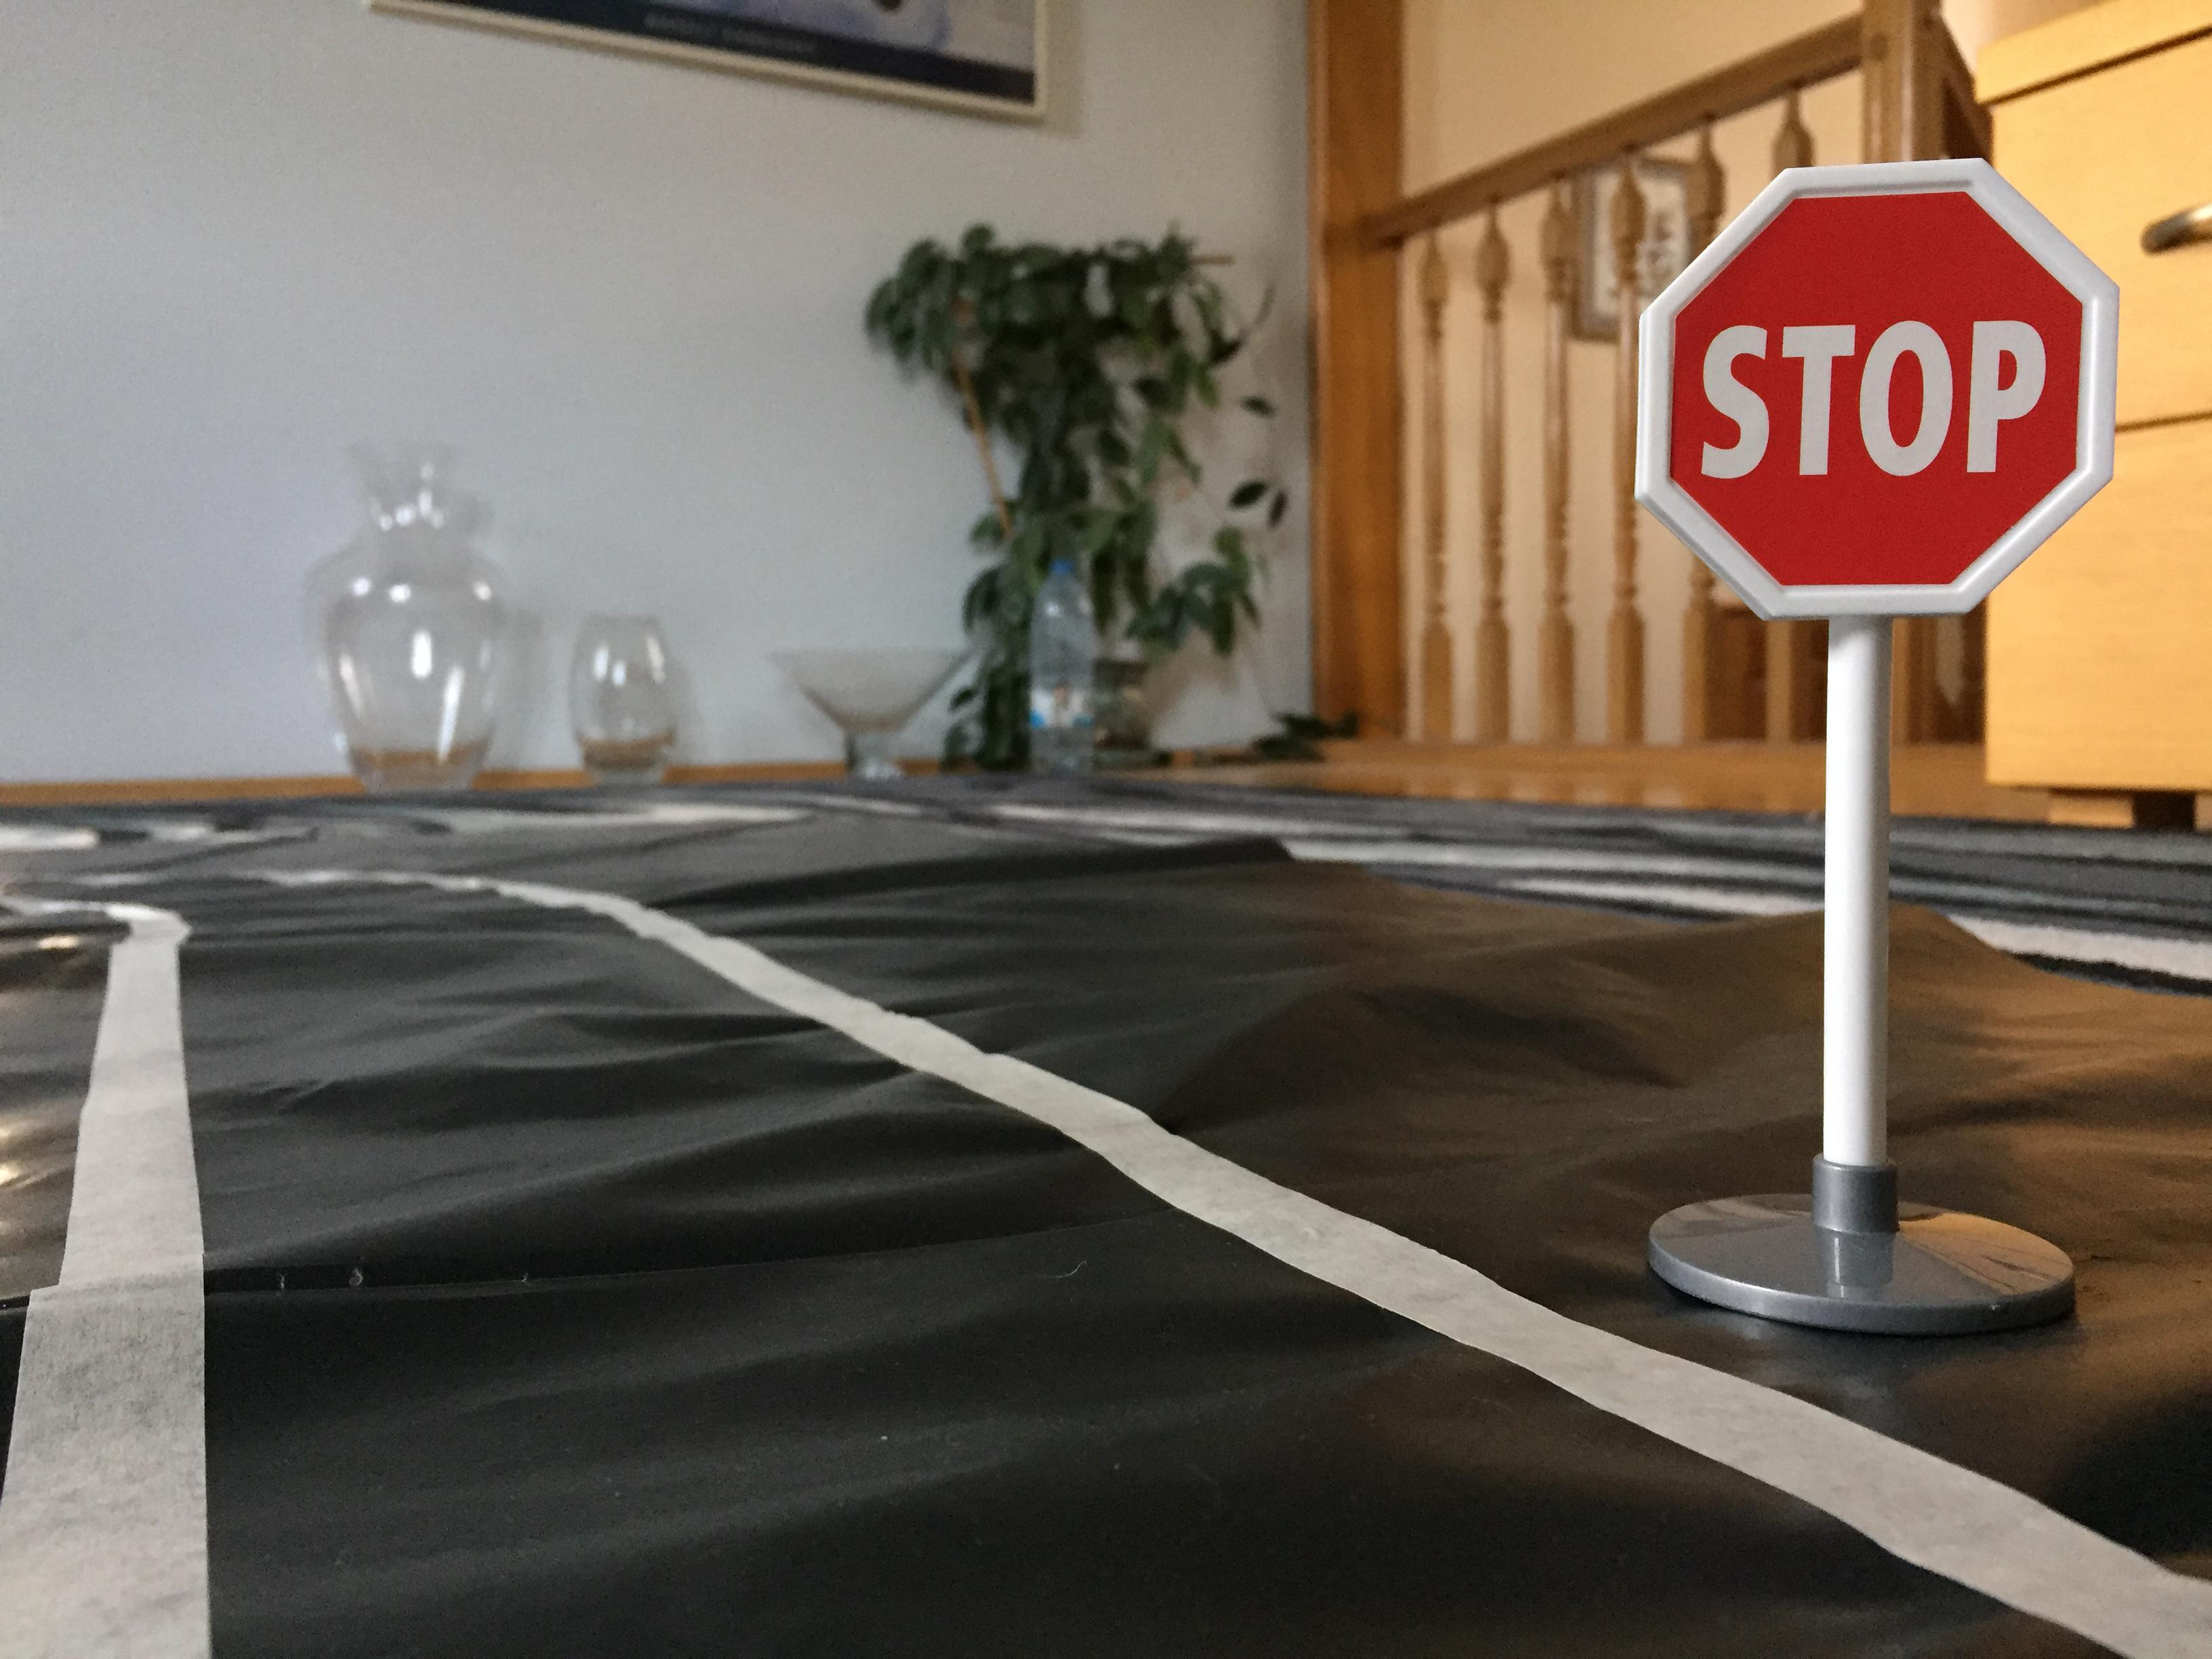stop: (1625, 155, 2135, 641)
